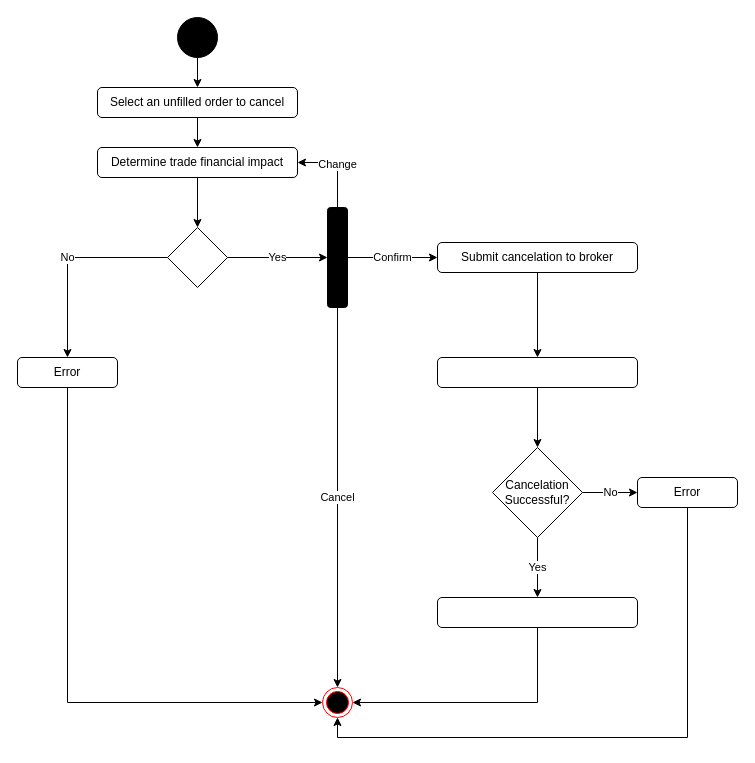
The diagram is 755 pixels wide and 763 high, and some of its shapes have lost their labels. The shapes that lost their labels are listed below. From the top down, each one's centre as x and y in pixels, then its label:
At [197,257]: "Valid?".
At [537,372]: "Submit cancelation to exchange".
At [537,612]: "Release equity and margin".
